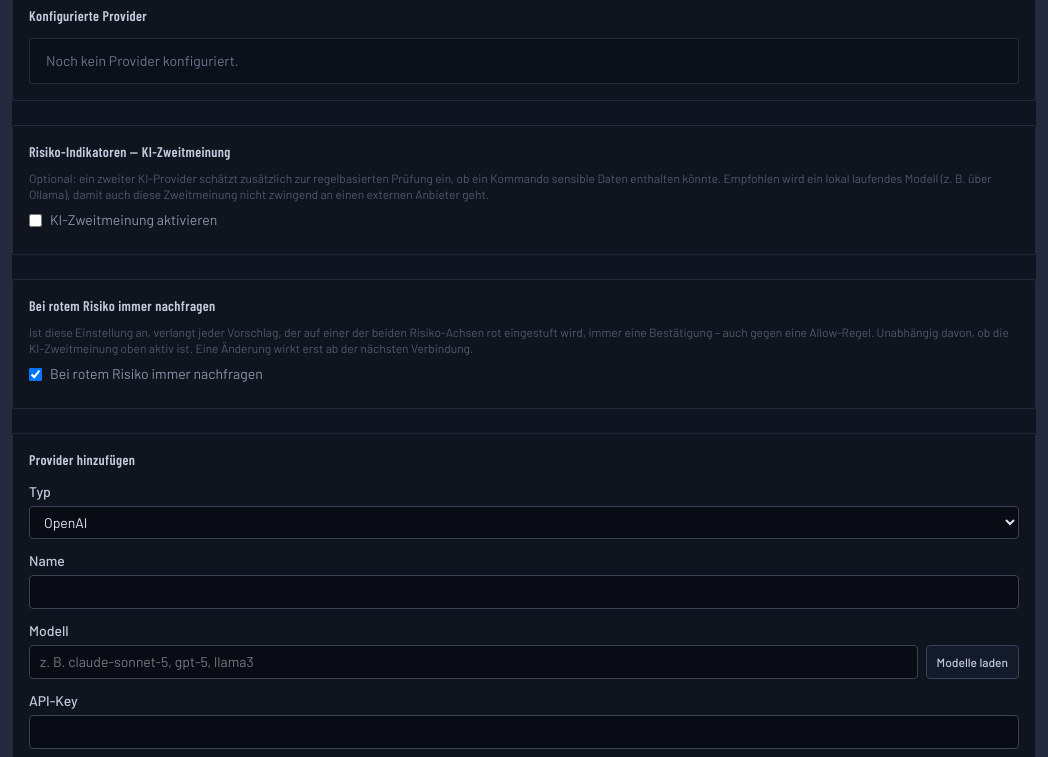
Scenario: AiProviderSettings credentials test button (Spec 0050, Teil 3) › shows an authentication-failed result
Type "sk-wrong" into the password field labelled "API-Key" at (524, 732), box [29,715,1019,749]
(page scrolled)
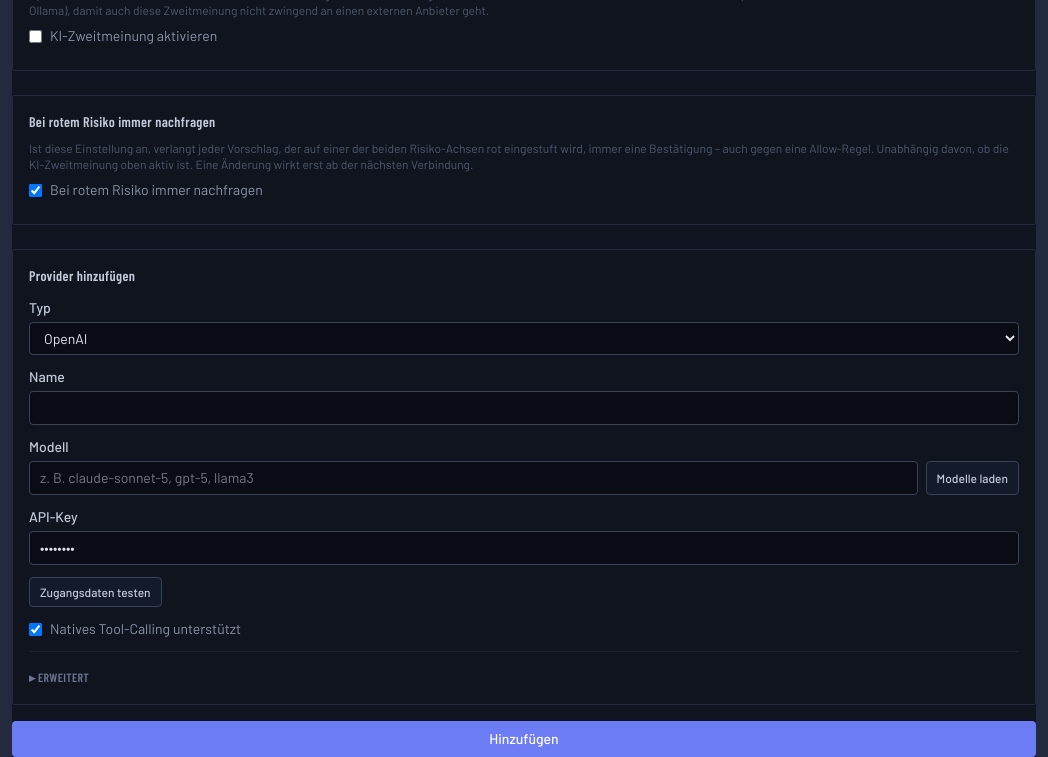
Click the button "Zugangsdaten testen" at (95, 592), box [29,577,162,607]
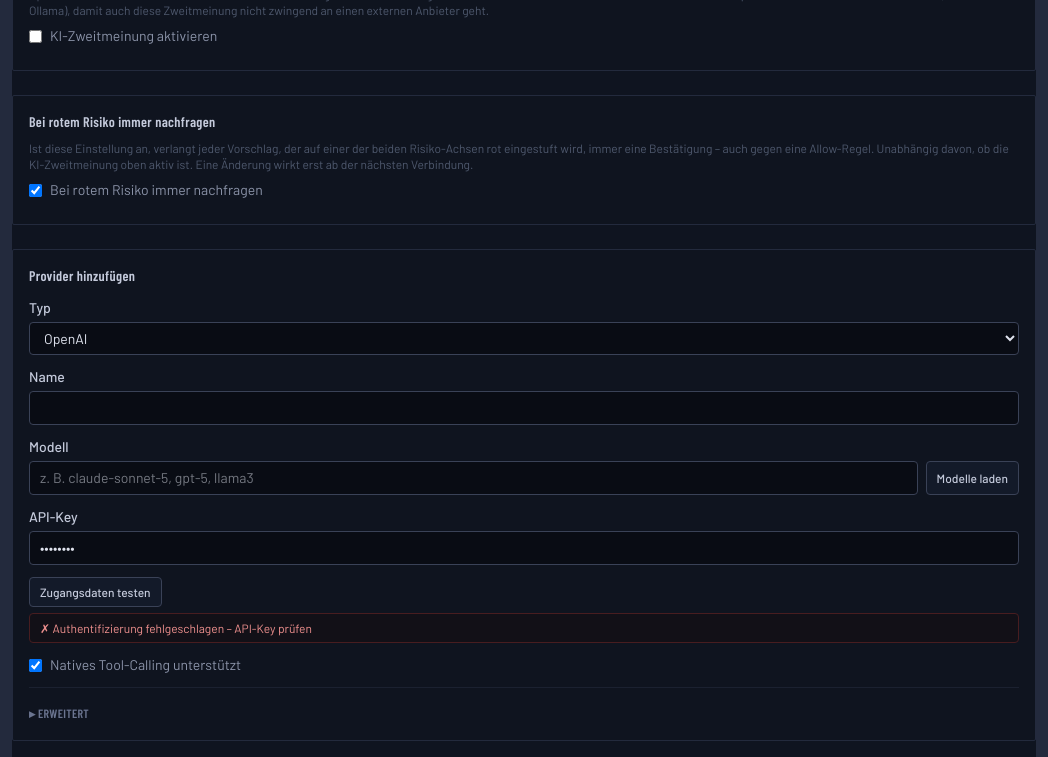
Result: the text "✗ Authentifizierung fehlgeschlagen – API-Key prüfen" is shown at [29,613,1019,643]
